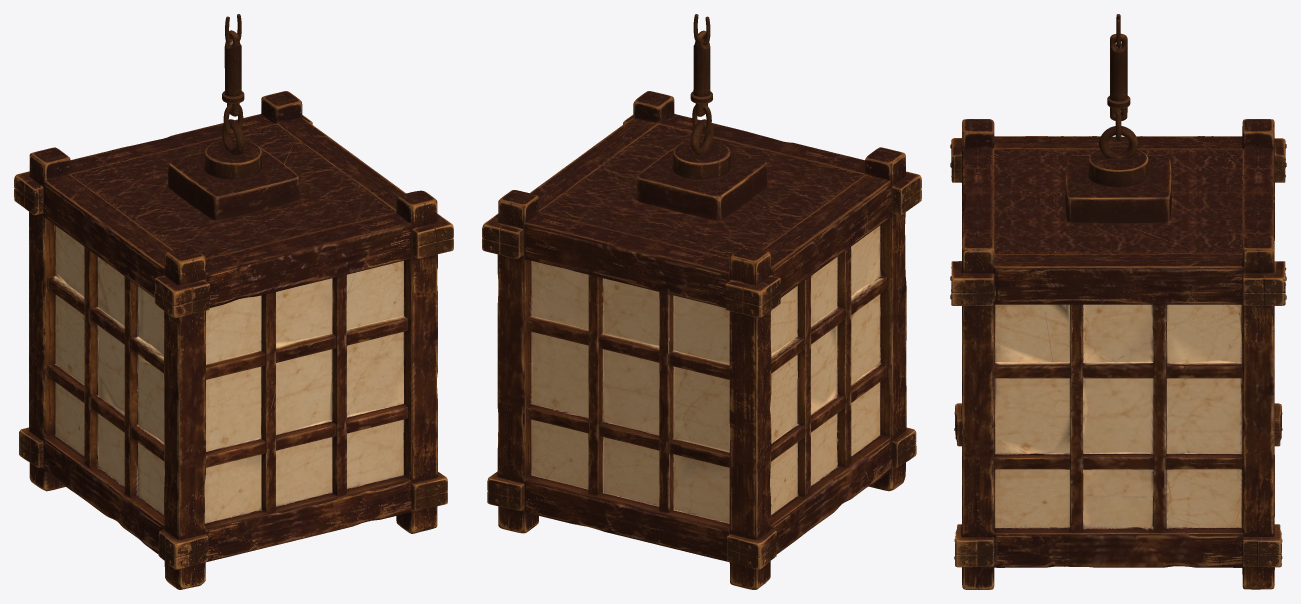
File: k_lantern.glb
The picture shows the model from 3 angles, left to right: view 1: azimuth 30°, elevation 25°; view 2: azimuth 150°, elevation 25°; view 3: azimuth 270°, elevation 25°; orthographic projection. The views are drawn at different scales.
Size of the model in its own units: 1.07 by 1.78 by 1.07.
1 material, 1 textured.
